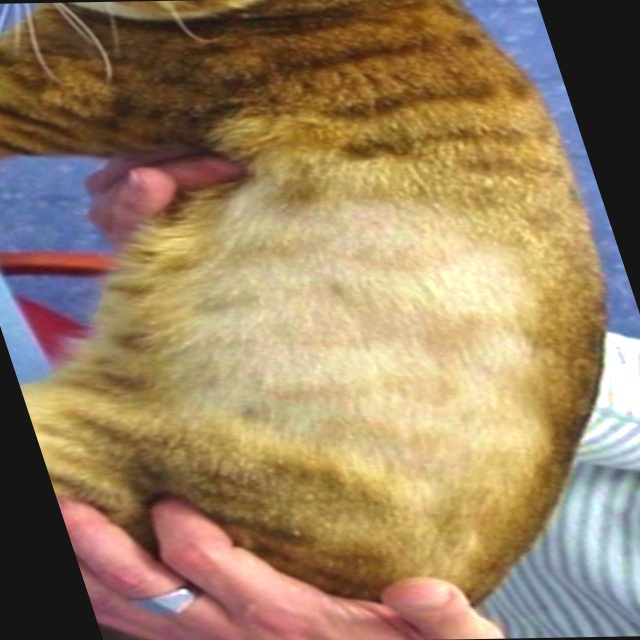hairloss: (121, 186, 609, 440)
